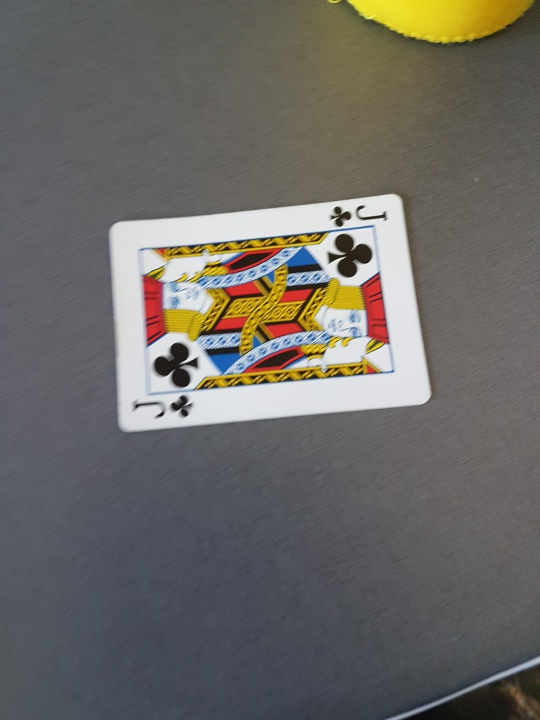jack: (102, 190, 435, 437)
